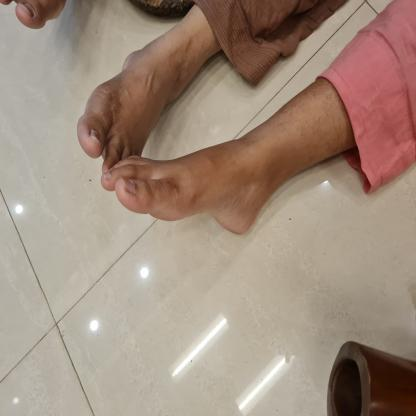leg: (98, 77, 357, 243), (72, 3, 220, 167)
